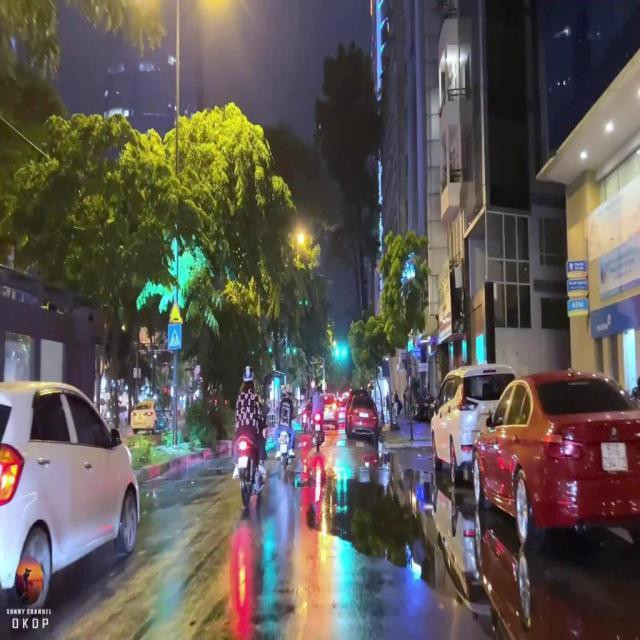221-duong-go-ghe: (168, 302, 184, 322)
224-duong-nguoi-di-bo-cat-ngang: (166, 322, 182, 350)
